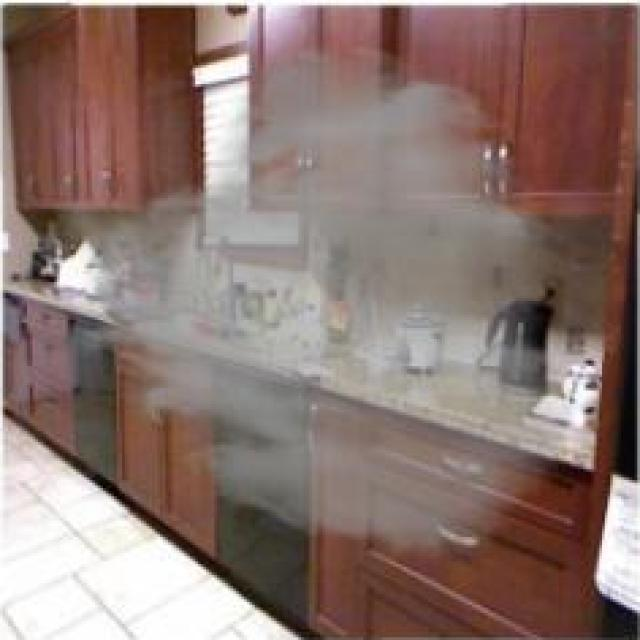fire: (56, 41, 582, 564)
